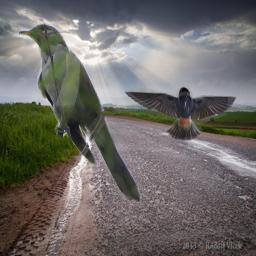Cuckoo: (19, 23, 147, 204)
Swallow: (121, 85, 238, 141)
